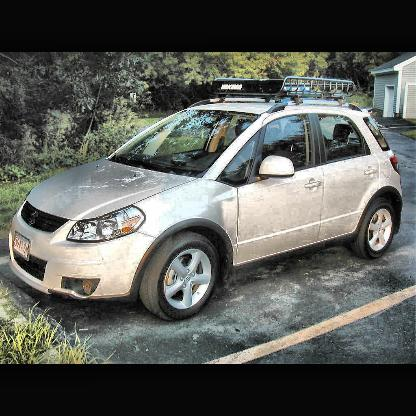Suzuki SX4 Hatchback 2012: (9, 75, 403, 324)
